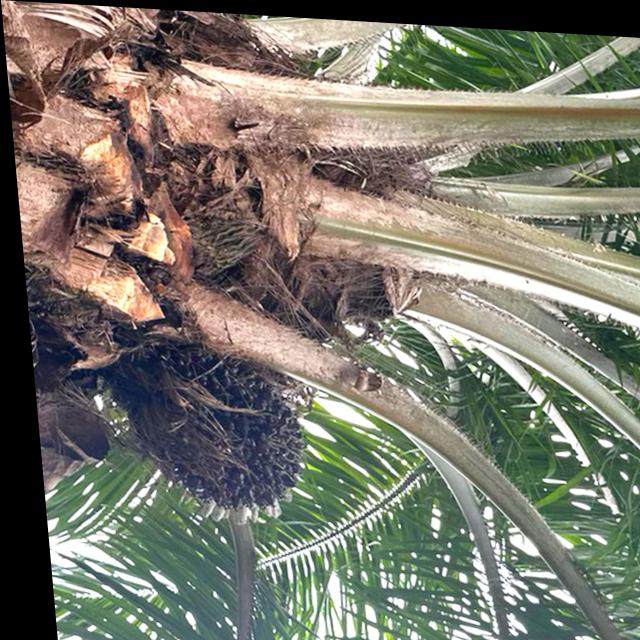unripe: (108, 325, 305, 516)
